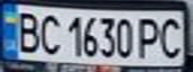0: (115, 15, 136, 60)
1: (63, 12, 84, 57)
3: (97, 14, 118, 58)
6: (78, 14, 100, 58)
B: (9, 8, 42, 54)
C: (154, 15, 187, 60), (36, 10, 63, 55)
P: (136, 15, 163, 60)
